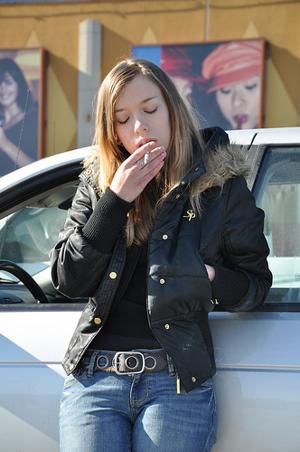person: (50, 55, 276, 447)
